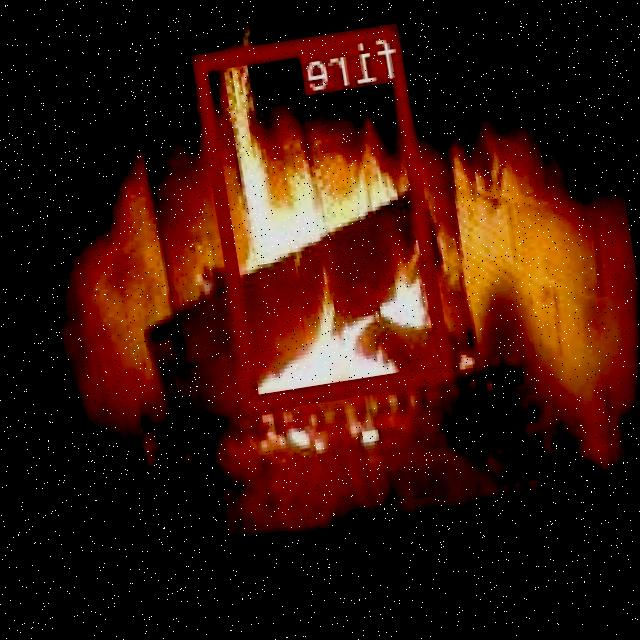fire: (196, 21, 454, 408)
